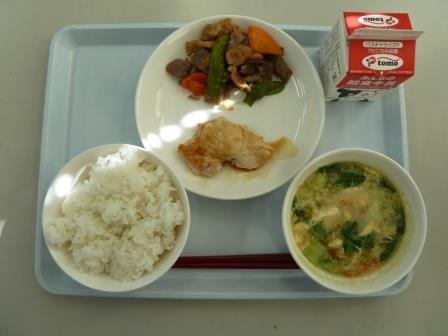Meat: (176, 106, 294, 183)
Milk: (326, 6, 417, 104)
Rice: (37, 143, 189, 289)
Soups: (288, 150, 417, 283)
cooked food meat with vegetables: (175, 23, 296, 106)
